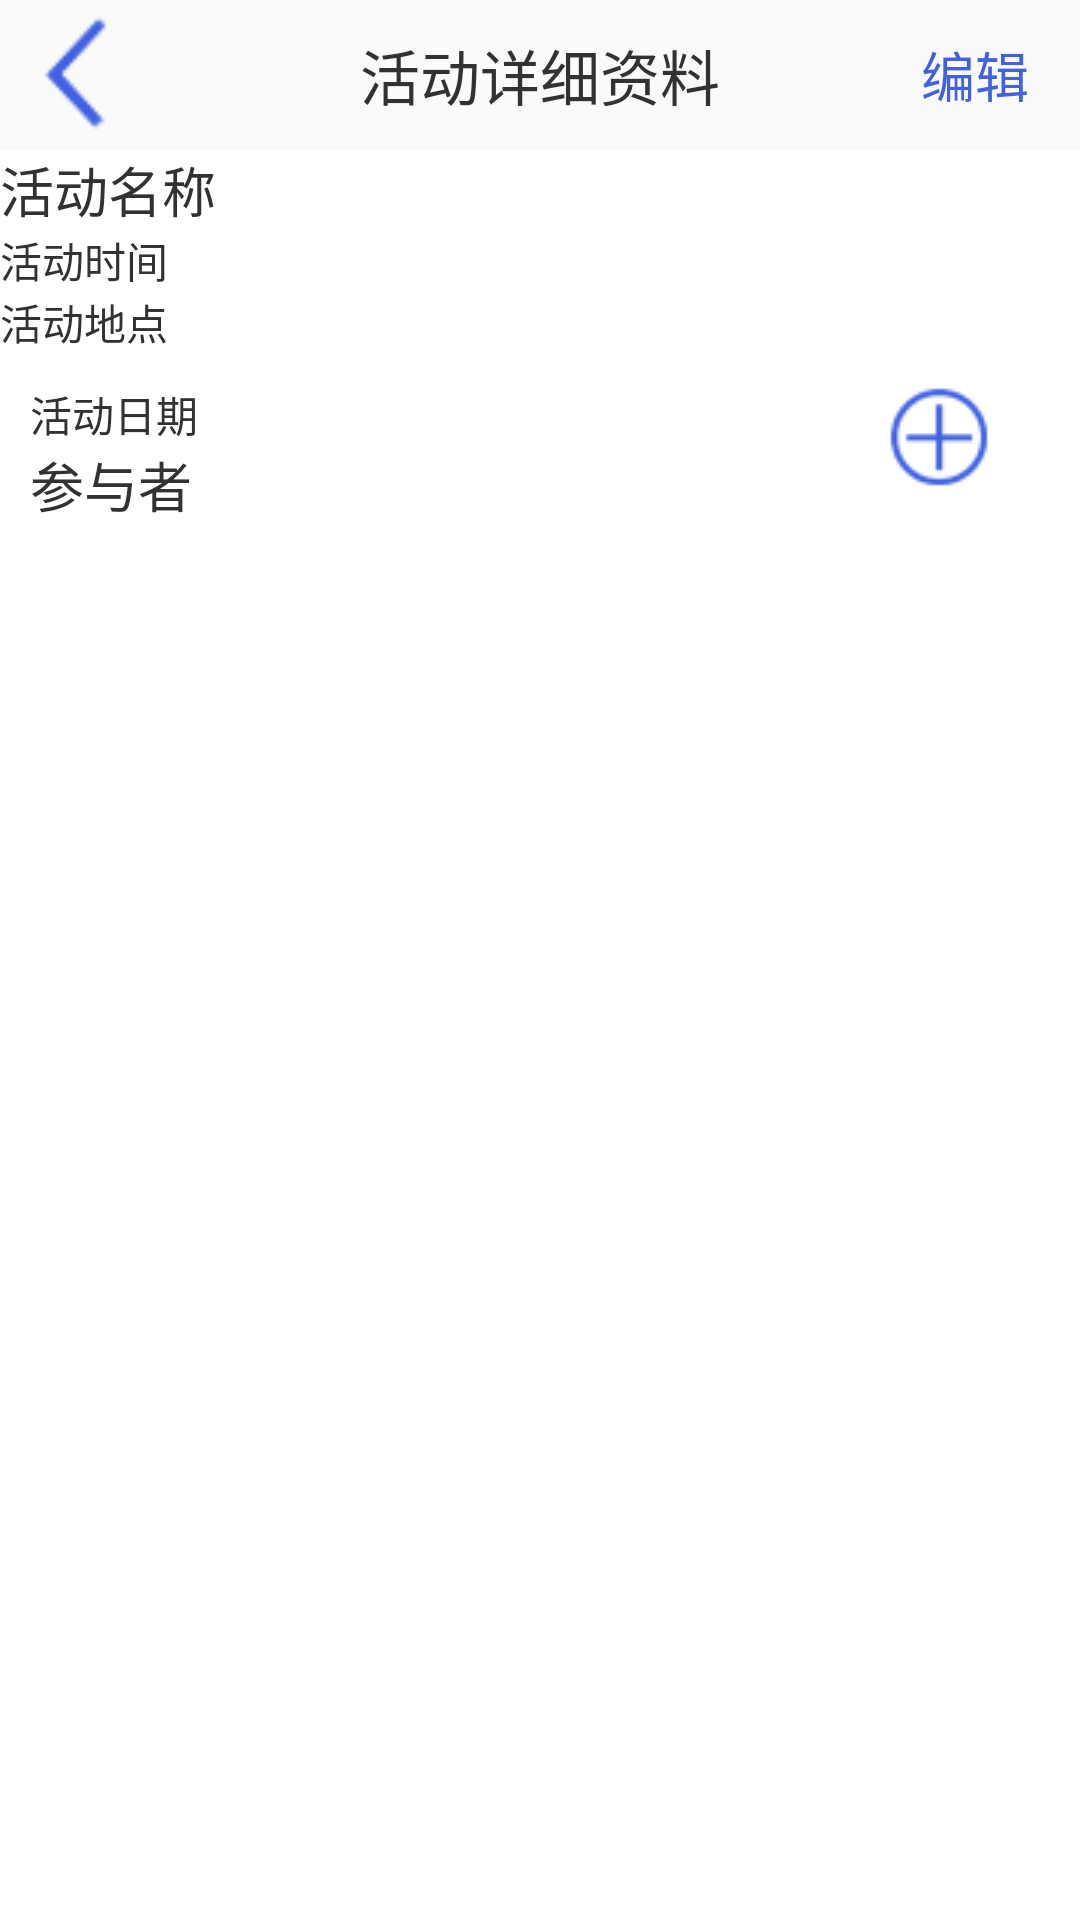

Named icons in this screenshot (1080px×1920px) and their bounding boxes, BBox(x1, y1, x2, y2):
add: BBox(890, 388, 988, 486)
arrow: BBox(45, 18, 106, 128)
